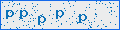p: (6, 10, 14, 19), (20, 10, 28, 19), (38, 16, 46, 25), (56, 10, 64, 19), (79, 14, 87, 23)
